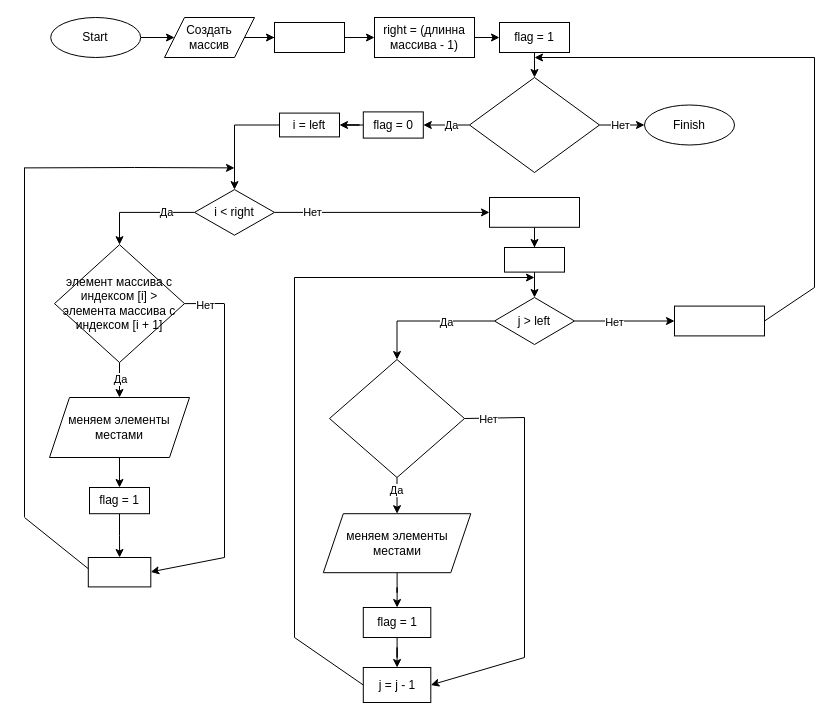
Some shapes in this 840 by 720 pixel diagram are drawn without their labels. The centre of each missing label's shape, as x and y in pixels:
"i = i + 1" goes at point 119,571.
"j = right" goes at point 534,259.
"left < right && flag > 0" goes at point 534,124.
"left = 0" goes at point 309,37.
"left = left + 1" goes at point 719,320.
"right = right - 1" goes at point 534,211.
"элемент массива с индексом [j - 1] > элемента массива с индексом [j]" goes at point 396,418.
